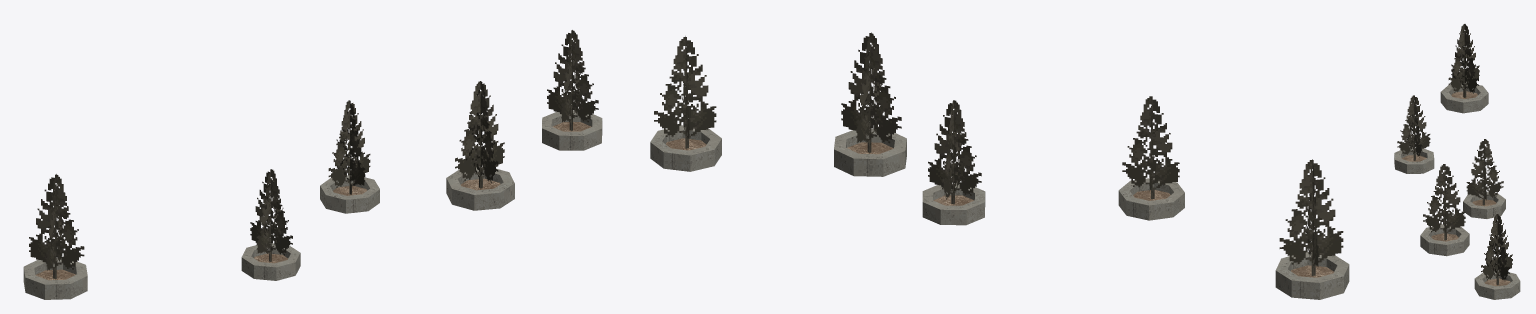
File: procgen-procpain-tree-park-pine-large-x1zm3.obj
The picture shows the model from 3 angles, left to right: view 1: azimuth 30°, elevation 25°; view 2: azimuth 150°, elevation 25°; view 3: azimuth 270°, elevation 25°; orthographic projection. The views are drawn at different scales.
Size of the model in its own units: 57.29 by 10.54 by 15.46.
